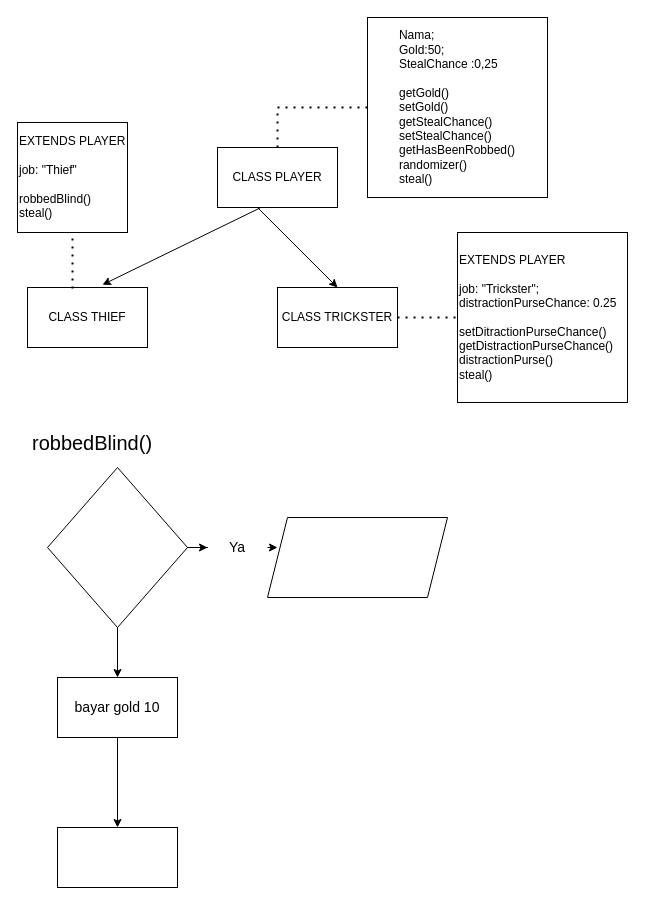
The diagram is 645 pixels wide and 905 high, and some of its shapes have lost their labels. The shapes that lost their labels are listed below. From the top down, each one's centre as x and y in pixels, then its label:
(117,547): gold(sendiri) < 10
(357,557): Tampilkan "Aku terlalu miskin"
(117,857): ubah stealchance menjadi 0.75
